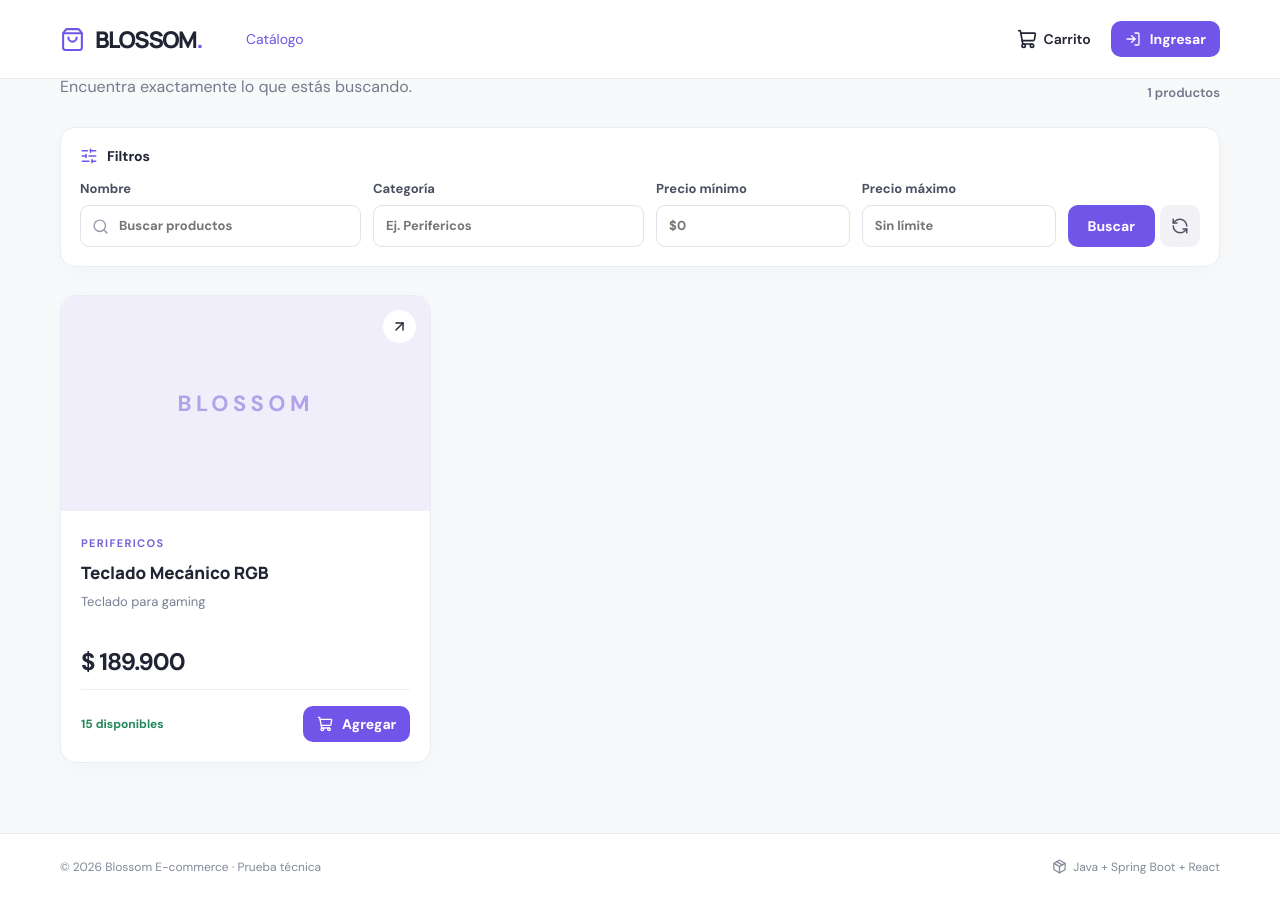
it: Detalle, carrito y checkout › agrega un producto del catálogo al carrito y actualiza el total
(page scrolled)
Expected: the link "Teclado Mecánico RGB" is shown, [81,561,269,584]
Click the button "Agregar".
click(357, 724)  # box [303,706,410,742]
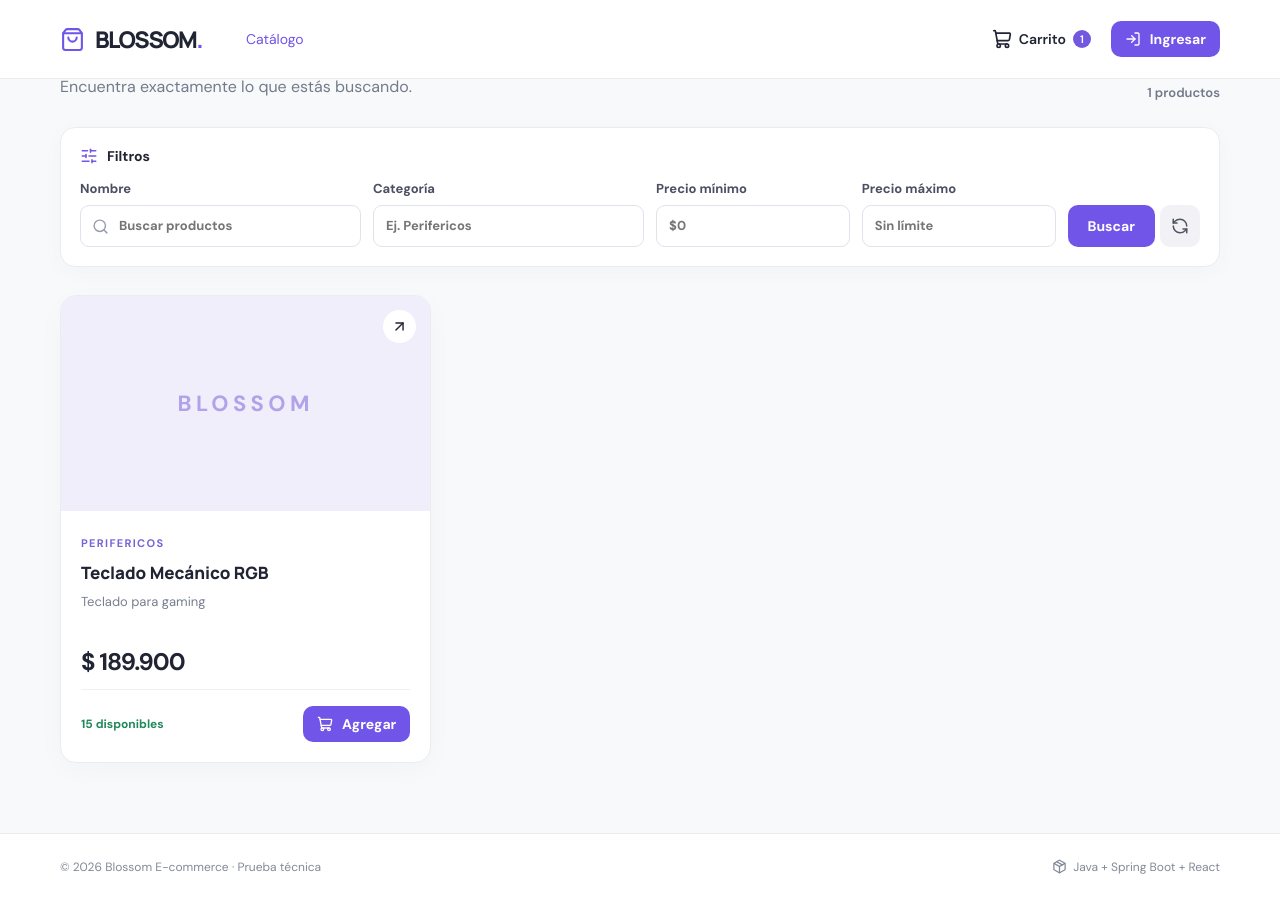
Click the link with aria-label "Carrito, 1 artículos".
click(1041, 39)  # box [992,29,1091,49]
(page scrolled)
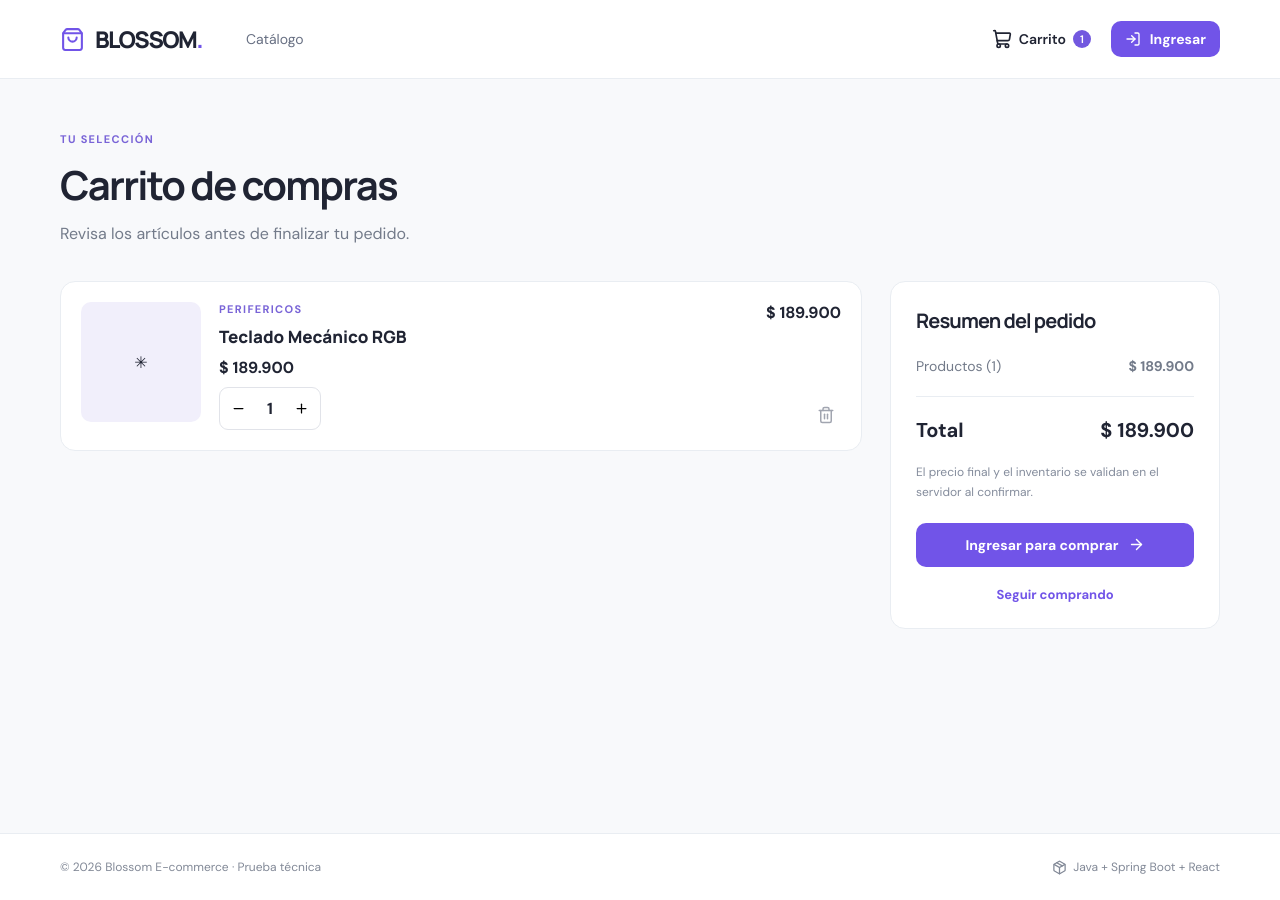
Now the heading "Carrito de compras" is shown, box [60,157,397,212]
Now the button "Ingresar para comprar" is shown, box [916,523,1194,567]
